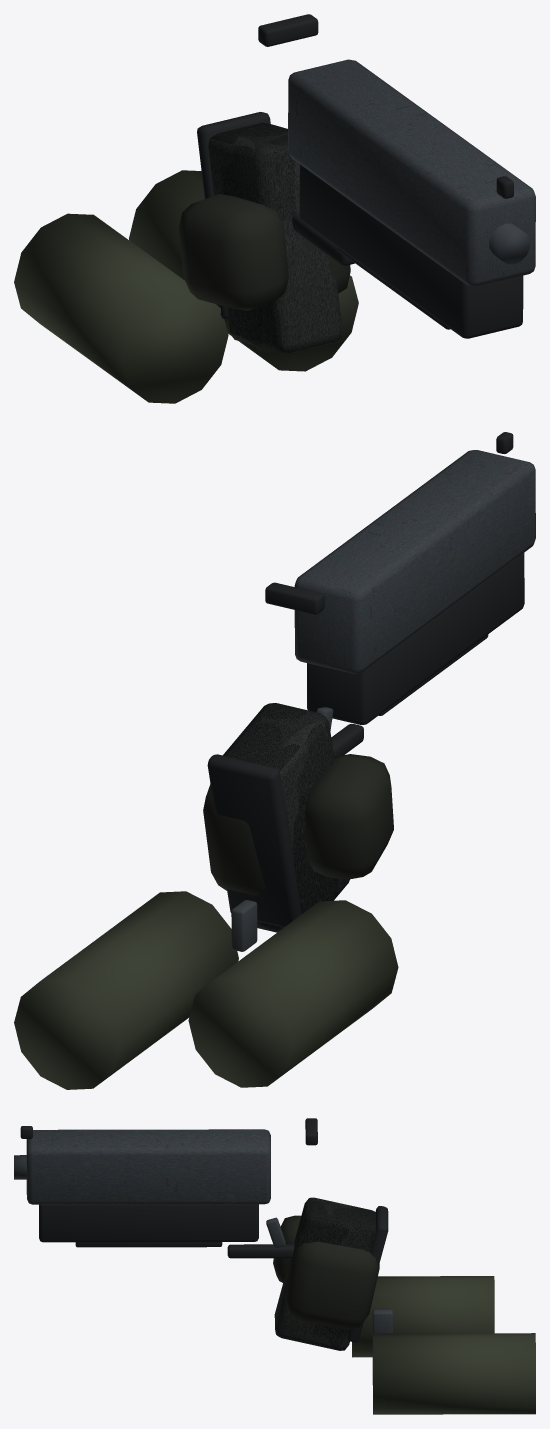
The model's file is weapon_m9.glb.
3 views of the same model, one above another, from view 1: azimuth 30°, elevation 25°; view 2: azimuth 150°, elevation 25°; view 3: azimuth 270°, elevation 25° (orthographic). The views are drawn at different scales.
Visible parts, largest first — view 1: WeaponMesh; view 2: WeaponMesh; view 3: WeaponMesh.
Boxes of the visible parts, x1,y1,x2,y2 form: WeaponMesh: (14,14,535,403); WeaponMesh: (14,432,535,1089); WeaponMesh: (14,1118,535,1414).
Bounding box in the file's own units: 0.1906 × 0.2865 × 0.513.
Materials: 5 (2 with a texture image).
